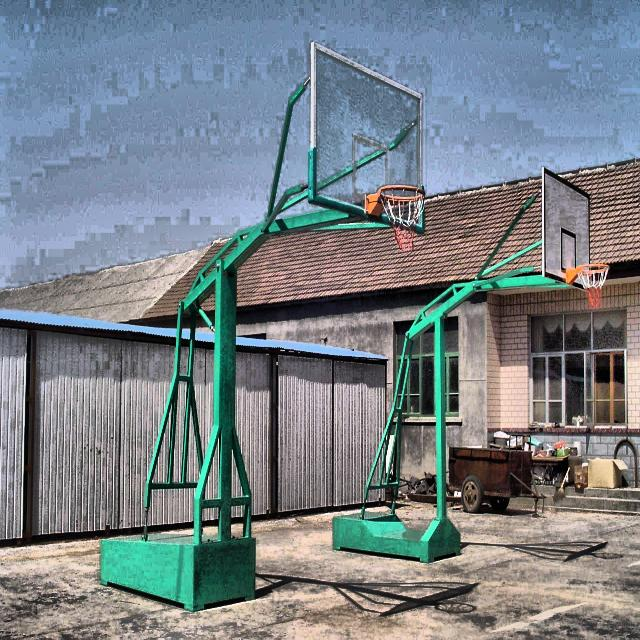rim: (380, 186, 426, 255), (577, 262, 611, 311)
